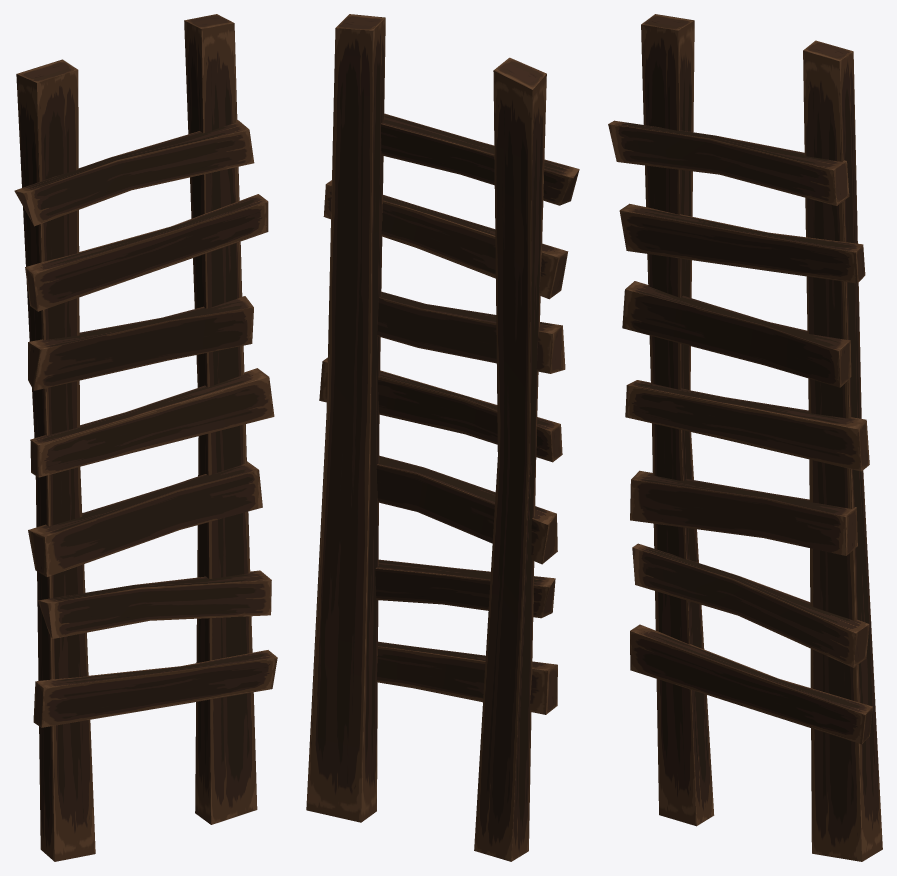
Rendered from SM_PROP_ladder_dungeon_01.fbx.
3 renders of one model, left to right at view 1: azimuth 30°, elevation 25°; view 2: azimuth 150°, elevation 25°; view 3: azimuth 330°, elevation 25°, orthographic.
Parts seen in each view (by area): view 1: SM_PROP_ladder_dungeon_01; view 2: SM_PROP_ladder_dungeon_01; view 3: SM_PROP_ladder_dungeon_01.
Boxes of the visible parts, x1,y1,x2,y2 form: SM_PROP_ladder_dungeon_01: (14, 14, 277, 861); SM_PROP_ladder_dungeon_01: (306, 14, 579, 861); SM_PROP_ladder_dungeon_01: (608, 14, 882, 861).
Bounding box in the file's own units: 109 × 325 × 21.02.
